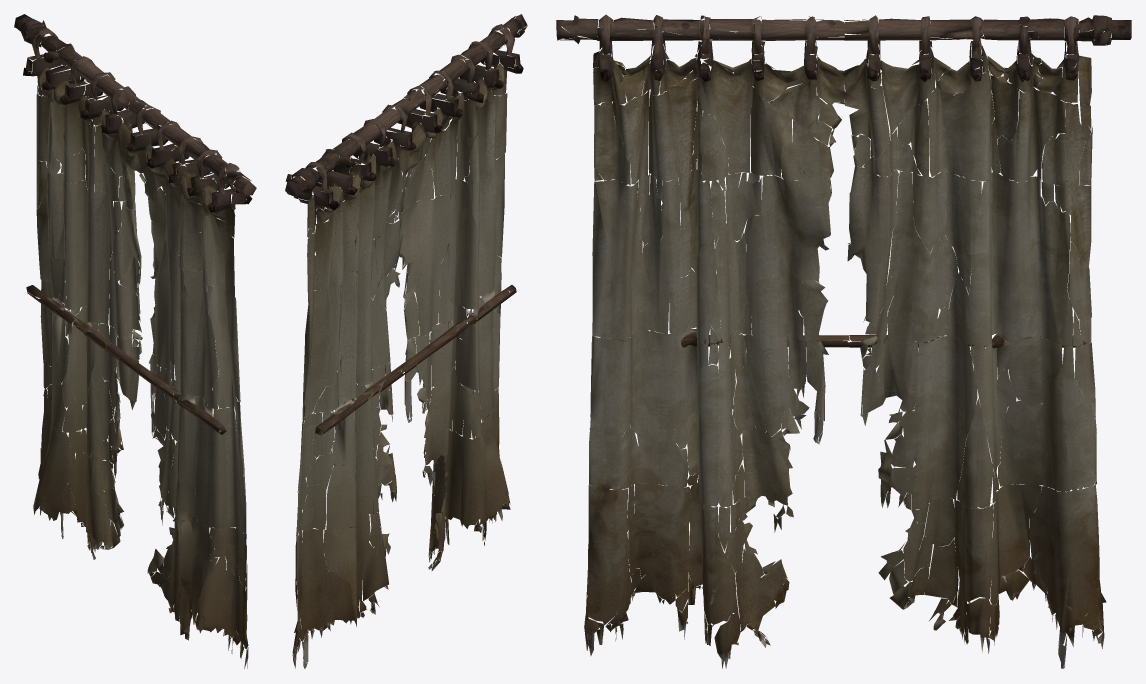
Rendered from Prop_Curtain_Torn.glb.
3 renders of one model, left to right at view 1: azimuth 30°, elevation 25°; view 2: azimuth 150°, elevation 25°; view 3: azimuth 270°, elevation 25°, orthographic. The views are drawn at different scales.
Parts seen in each view (by area): view 1: tripo_node_9cbdeb19-d96d-49c1-b42b-3ee2ce1b7763; view 2: tripo_node_9cbdeb19-d96d-49c1-b42b-3ee2ce1b7763; view 3: tripo_node_9cbdeb19-d96d-49c1-b42b-3ee2ce1b7763.
Boxes of the visible parts, x1=… form: tripo_node_9cbdeb19-d96d-49c1-b42b-3ee2ce1b7763: x1=14, y1=14, x2=256, y2=668; tripo_node_9cbdeb19-d96d-49c1-b42b-3ee2ce1b7763: x1=285, y1=14, x2=527, y2=668; tripo_node_9cbdeb19-d96d-49c1-b42b-3ee2ce1b7763: x1=556, y1=14, x2=1131, y2=668.
Bounding box in the file's own units: 0.1043 × 0.9983 × 0.8067.
1 material, 1 textured.
